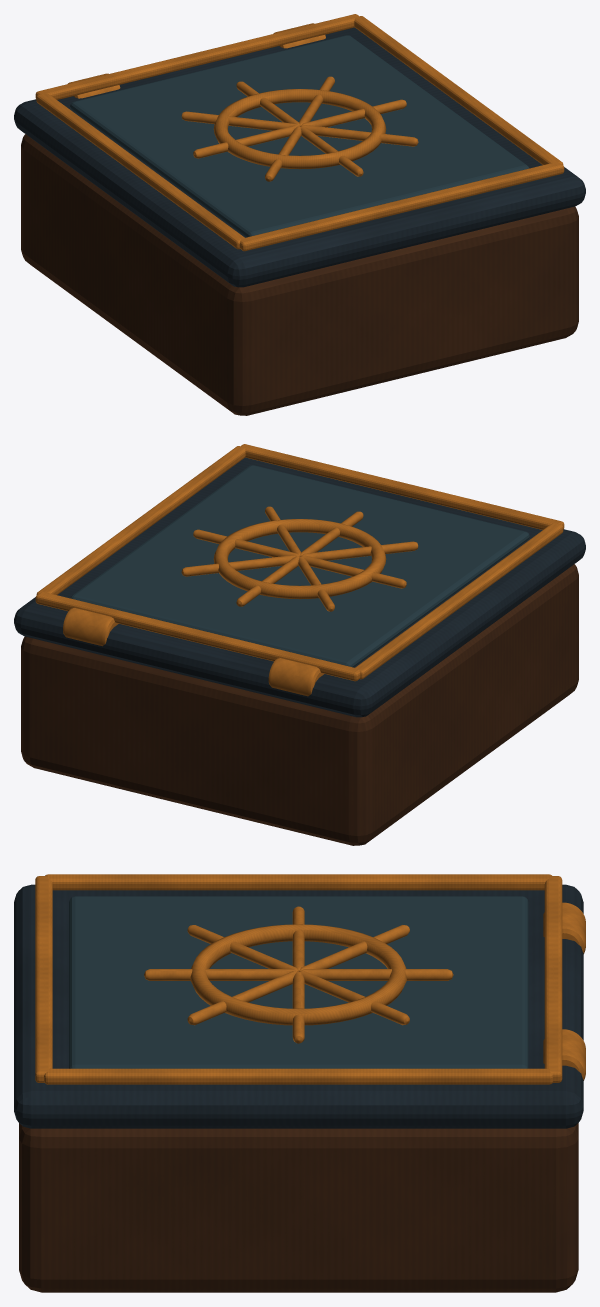
File: compartment.glb
3 renders of one model, top to bottom at view 1: azimuth 30°, elevation 25°; view 2: azimuth 150°, elevation 25°; view 3: azimuth 270°, elevation 25°, orthographic. The views are drawn at different scales.
Visible parts, largest first — view 1: Patinated_bronze, Obsidian, Brushed_gold, Weathered_basalt; view 2: Patinated_bronze, Obsidian, Brushed_gold, Weathered_basalt; view 3: Patinated_bronze, Obsidian, Brushed_gold, Weathered_basalt.
Part boxes in pixels (x1,y1,x2,y2): Patinated_bronze: [21, 134, 578, 415]; Obsidian: [70, 35, 529, 237]; Brushed_gold: [35, 14, 564, 251]; Weathered_basalt: [14, 27, 585, 287]; Patinated_bronze: [21, 564, 578, 845]; Obsidian: [70, 465, 529, 667]; Brushed_gold: [35, 444, 564, 696]; Weathered_basalt: [14, 457, 585, 717]; Patinated_bronze: [19, 1123, 578, 1292]; Obsidian: [69, 896, 528, 1068]; Brushed_gold: [35, 874, 585, 1084]; Weathered_basalt: [14, 884, 583, 1128].
Size of the model in its own units: 1.04 by 0.498 by 1.14.
4 materials, 3 textured.
